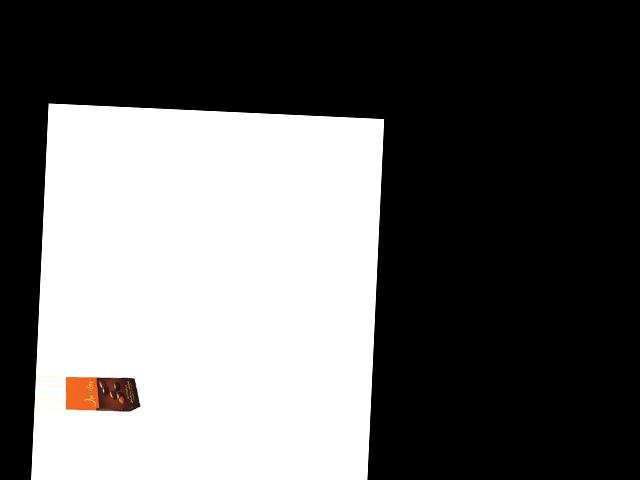chocolate: (64, 370, 140, 414)
